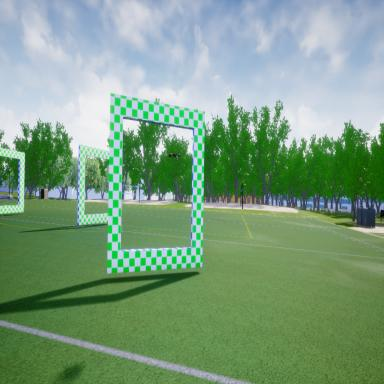gate: (107, 90, 208, 279), (76, 139, 108, 224), (0, 147, 26, 215)
